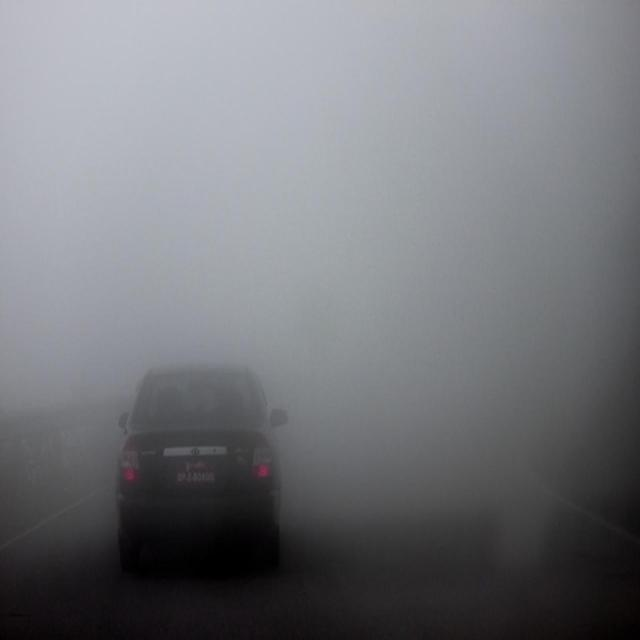Car: (113, 367, 290, 564)
